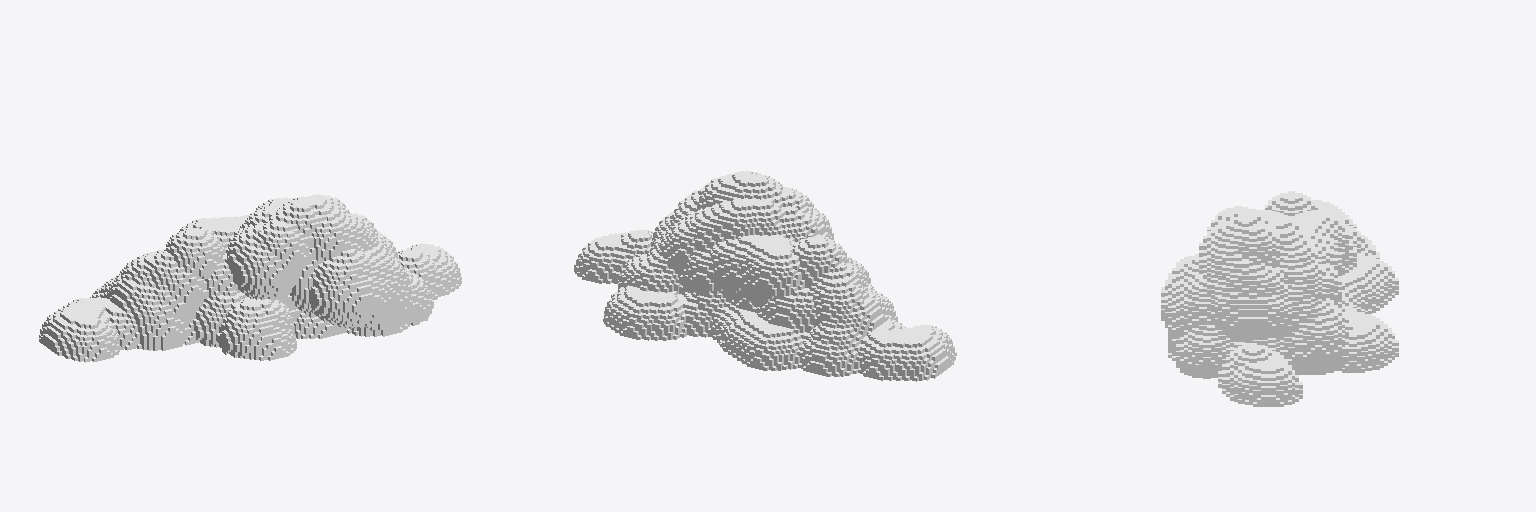
The model's file is forest1.4-37.obj.
3 renders of one model, left to right at view 1: azimuth 30°, elevation 25°; view 2: azimuth 150°, elevation 25°; view 3: azimuth 270°, elevation 25°, orthographic.
Visible parts, largest first — view 1: object 1; view 2: object 1; view 3: object 1.
Part boxes in pixels (x1,y1,x2,y2): object 1: (39, 194, 461, 362); object 1: (574, 171, 956, 381); object 1: (1161, 191, 1398, 406).
Size of the model in its own units: 11.5 by 3.3 by 6.2.